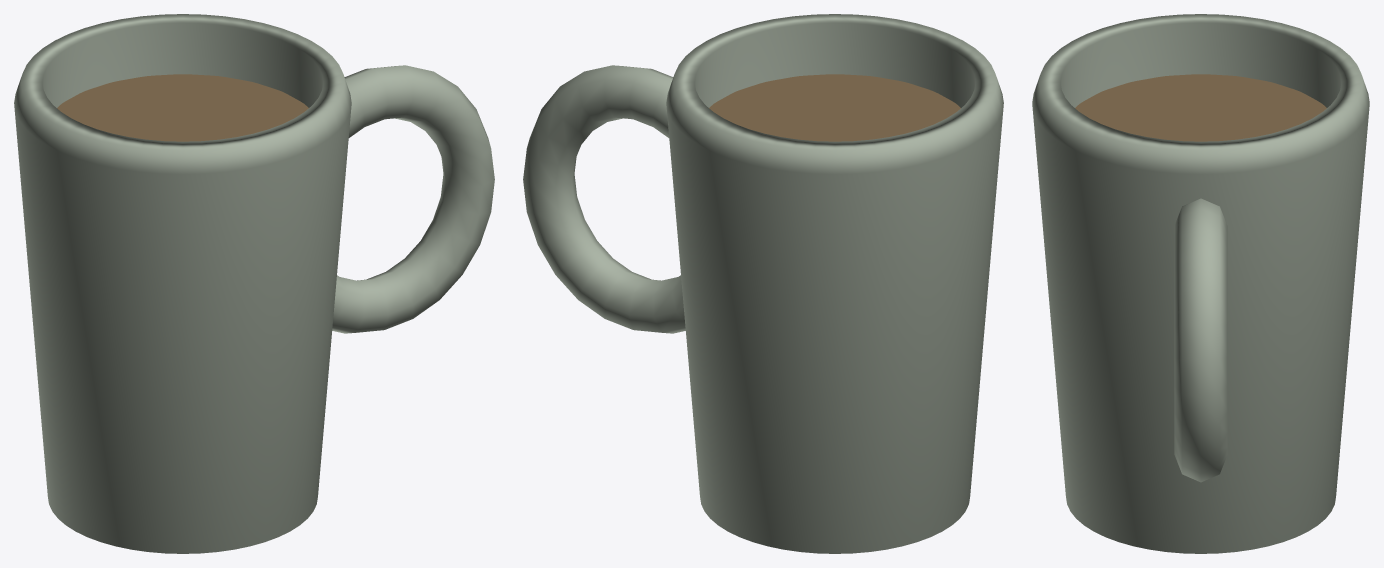
The model's file is mug.glb.
3 renders of one model, left to right at view 1: azimuth 30°, elevation 25°; view 2: azimuth 150°, elevation 25°; view 3: azimuth 270°, elevation 25°, orthographic.
Parts seen in each view (by area): view 1: hollow-mug, joined-loop-handle, contained-tea; view 2: hollow-mug, joined-loop-handle, contained-tea; view 3: hollow-mug, joined-loop-handle, contained-tea.
Boxes of the visible parts, left/top/right/bottom form: hollow-mug: left=14, top=14, right=351, bottom=553; joined-loop-handle: left=332, top=65, right=494, bottom=333; contained-tea: left=57, top=74, right=308, bottom=141; hollow-mug: left=666, top=14, right=1003, bottom=553; joined-loop-handle: left=523, top=65, right=685, bottom=333; contained-tea: left=709, top=74, right=960, bottom=141; hollow-mug: left=1032, top=14, right=1369, bottom=553; joined-loop-handle: left=1174, top=198, right=1227, bottom=482; contained-tea: left=1075, top=74, right=1326, bottom=141.
Size of the model in its own units: 0.288 by 0.2504 by 0.1849.
